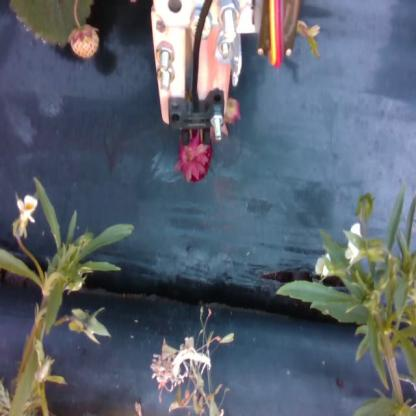ripe: (180, 141, 214, 181)
unripe: (68, 29, 98, 60)
